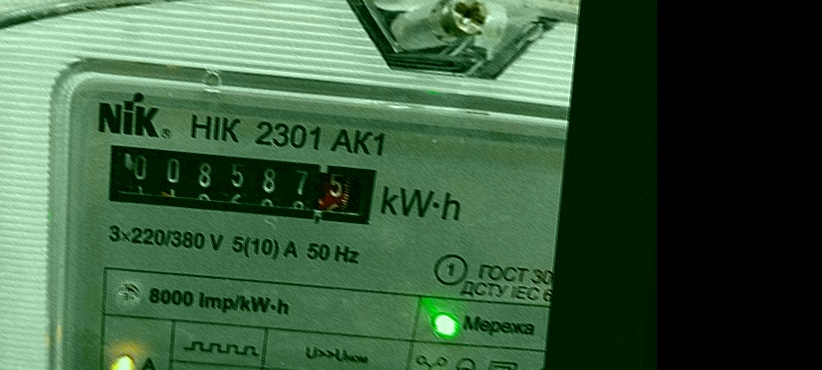0: (130, 151, 150, 182), (164, 155, 183, 185)
5: (327, 171, 347, 201), (227, 161, 247, 190)
7: (291, 166, 311, 198)
8: (259, 164, 279, 195), (195, 159, 214, 189)
screen: (87, 127, 395, 240)
